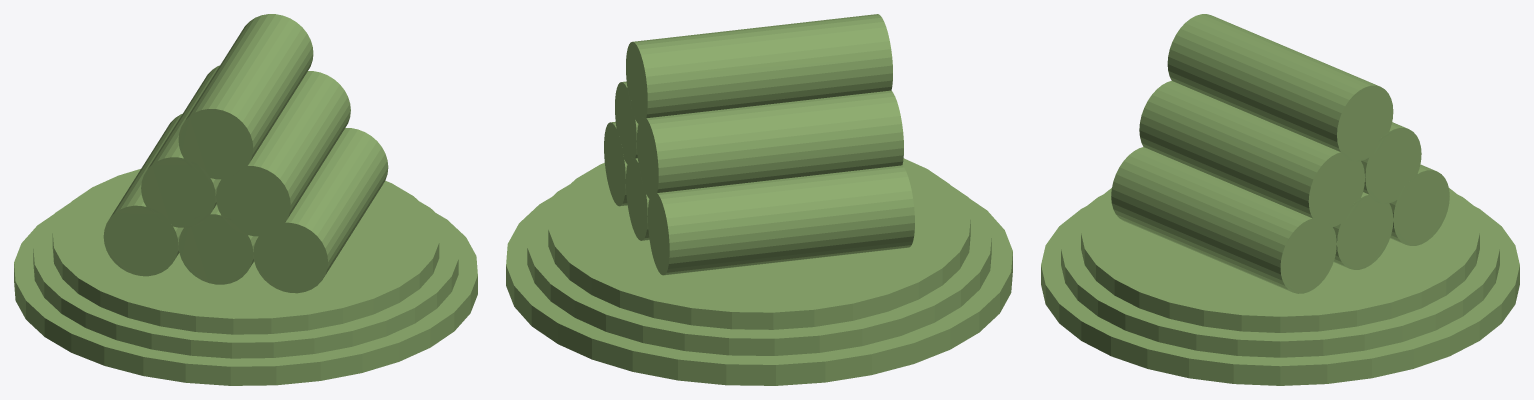
File: harbor_wood.glb
The picture shows the model from 3 angles, left to right: view 1: azimuth 30°, elevation 25°; view 2: azimuth 150°, elevation 25°; view 3: azimuth 270°, elevation 25°; orthographic projection. The views are drawn at different scales.
Parts seen in each view (by area): view 1: harbor_wood; view 2: harbor_wood; view 3: harbor_wood.
Part boxes in pixels (x1,y1,x2,y2): harbor_wood: (14,14,477,385); harbor_wood: (506,14,1012,385); harbor_wood: (1041,14,1519,385).
Bounding box in the file's own units: 12 × 6.45 × 12.
